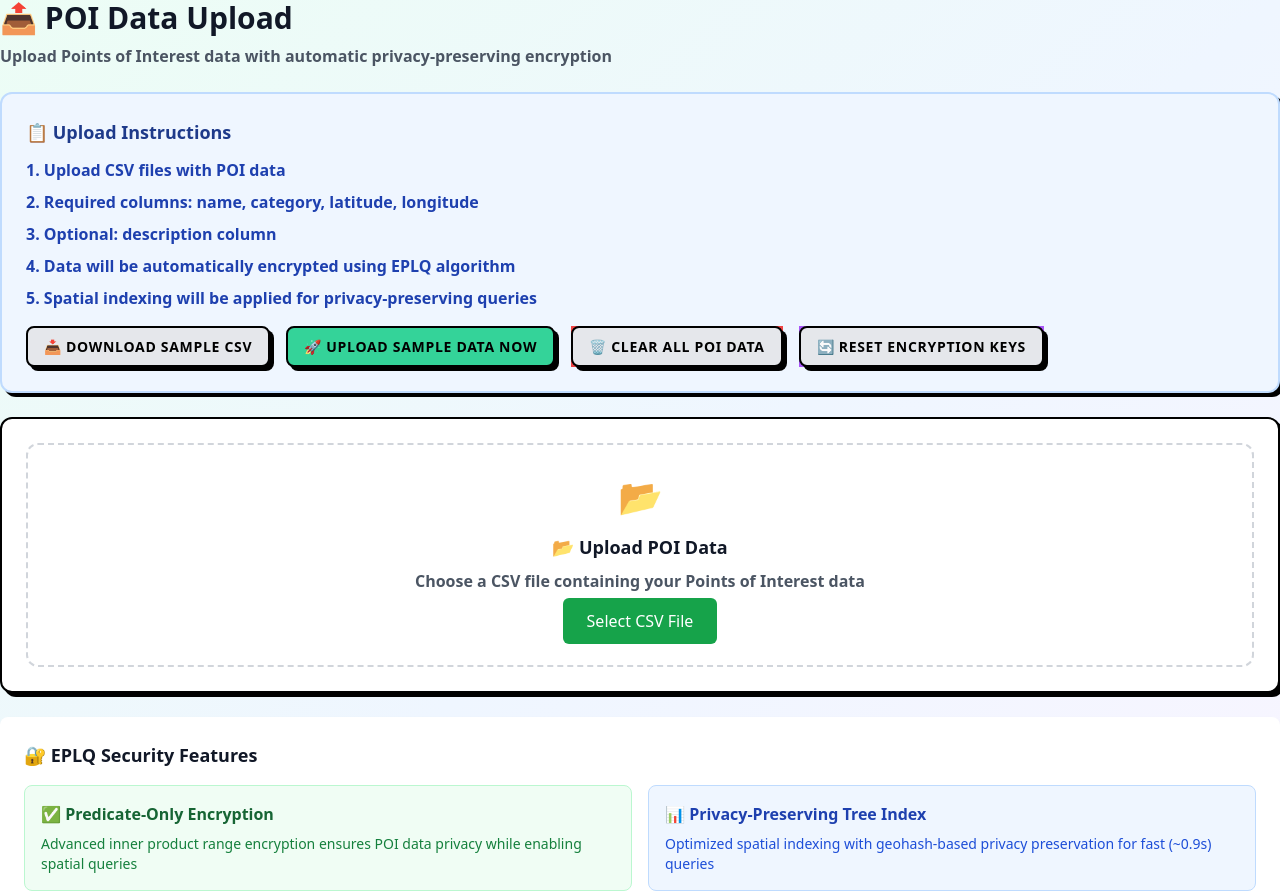
Test: DataUpload Component › should show progress during upload
Click the button "🚀 Upload Sample Data Now" at {"x": 421, "y": 346}, box [286, 326, 555, 367]
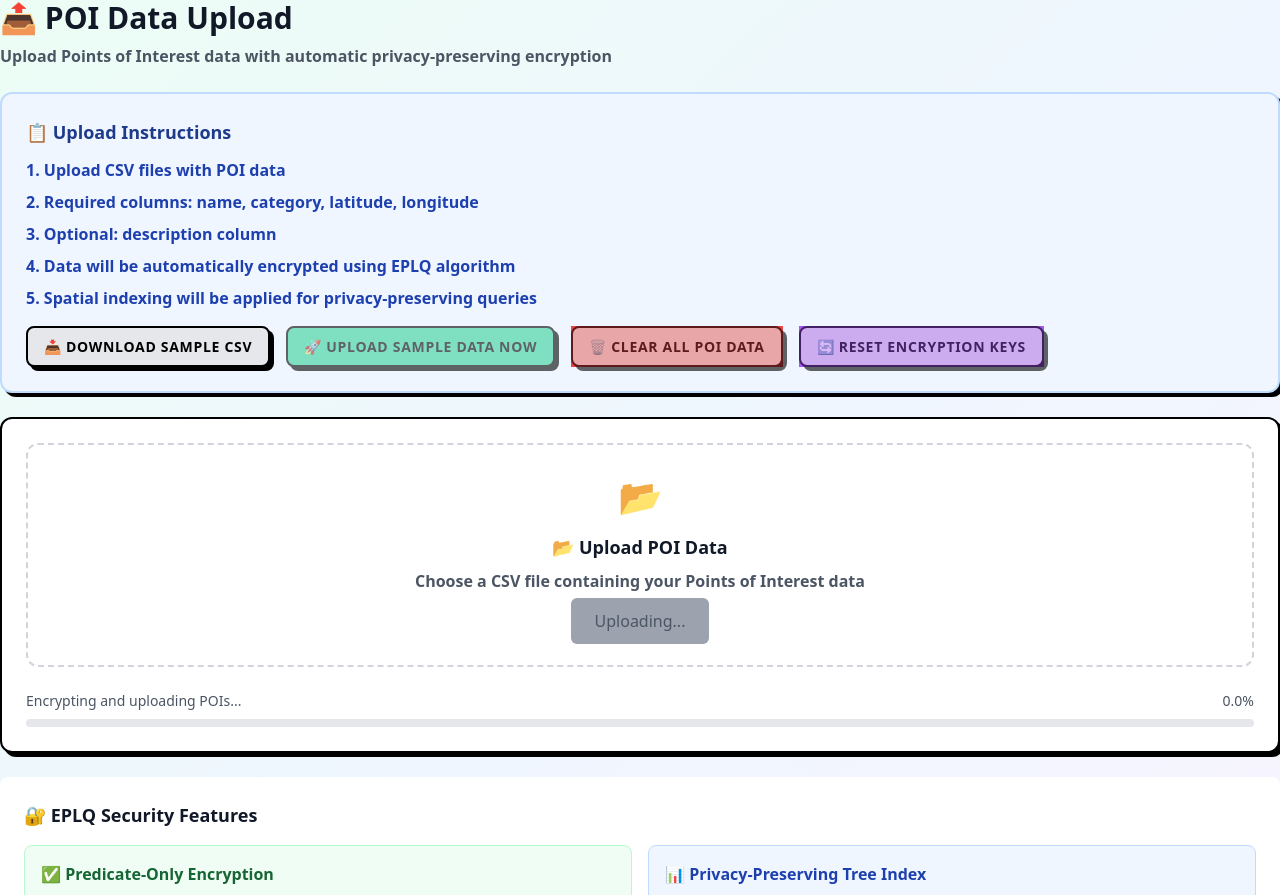
Expected: the text "Encrypting and uploading POIs..." is shown, [26, 691, 242, 711]
